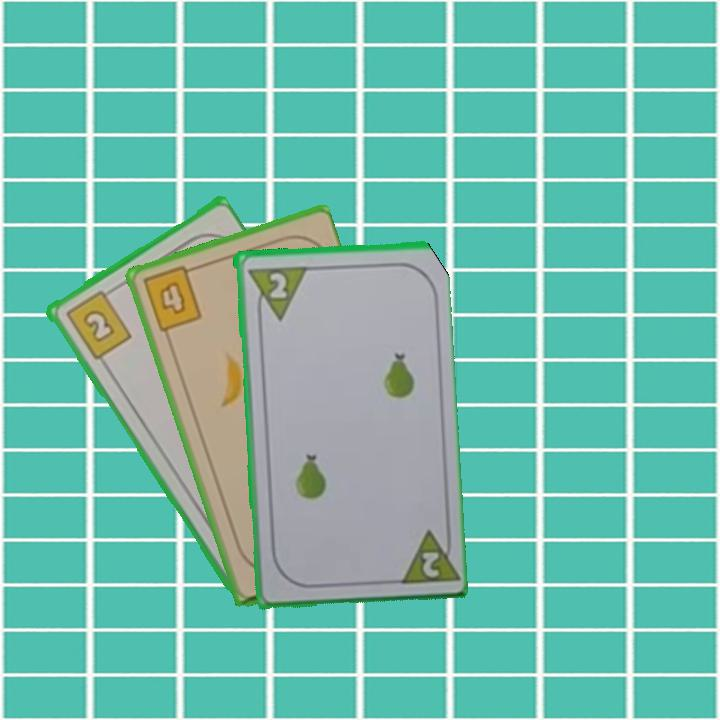2b: (61, 284, 134, 362)
2p: (392, 523, 458, 587), (243, 261, 307, 323)
4b: (138, 262, 205, 335)
